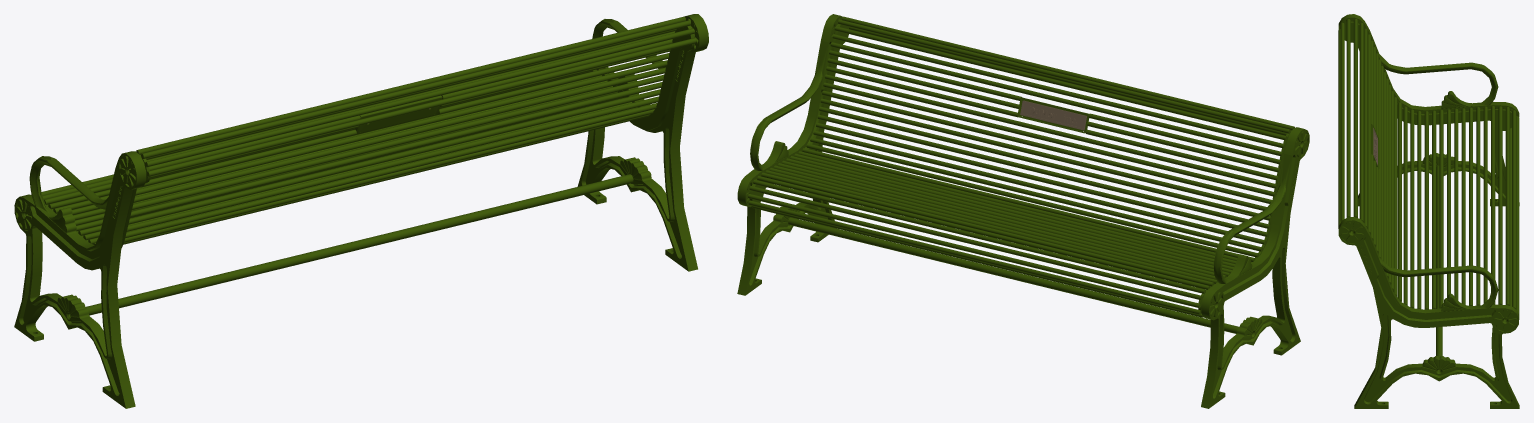
3 renders of one model, left to right at view 1: azimuth 30°, elevation 25°; view 2: azimuth 150°, elevation 25°; view 3: azimuth 270°, elevation 25°, orthographic. The views are drawn at different scales.
Parts seen in each view (by area): view 1: mesh1_mesh1-geometry, mesh110_mesh110-geometry, mesh219_mesh219-geometry, mesh239_mesh239-geometry, mesh240_mesh240-geometry, mesh238_mesh238-geometry, mesh264_mesh264-geometry, mesh226_mesh226-geometry, mesh262_mesh262-geometry, mesh263_mesh263-geometry, mesh227_mesh227-geometry, mesh265_mesh265-geometry (+20 smaller); view 2: mesh1_mesh1-geometry, mesh110_mesh110-geometry, mesh219_mesh219-geometry, mesh226_mesh226-geometry, mesh234_mesh234-geometry, mesh235_mesh235-geometry, mesh236_mesh236-geometry, mesh244_mesh244-geometry, mesh245_mesh245-geometry, mesh242_mesh242-geometry, mesh237_mesh237-geometry, mesh227_mesh227-geometry (+33 smaller); view 3: mesh110_mesh110-geometry, mesh1_mesh1-geometry, mesh238_mesh238-geometry, mesh246_mesh246-geometry, mesh237_mesh237-geometry, mesh239_mesh239-geometry, mesh244_mesh244-geometry, mesh245_mesh245-geometry, mesh236_mesh236-geometry, mesh222_mesh222-geometry, mesh258_mesh258-geometry, mesh255_mesh255-geometry (+32 smaller).
Part boxes in pixels (x1,y1,x2,y2): mesh1_mesh1-geometry: (14, 151, 146, 408); mesh110_mesh110-geometry: (577, 14, 708, 271); mesh219_mesh219-geometry: (85, 174, 633, 315); mesh239_mesh239-geometry: (145, 28, 694, 167); mesh240_mesh240-geometry: (146, 38, 696, 176); mesh238_mesh238-geometry: (141, 20, 690, 158); mesh264_mesh264-geometry: (130, 82, 662, 217); mesh226_mesh226-geometry: (135, 60, 667, 195); mesh262_mesh262-geometry: (126, 96, 658, 231); mesh263_mesh263-geometry: (128, 89, 660, 224); mesh227_mesh227-geometry: (133, 67, 665, 202); mesh265_mesh265-geometry: (132, 74, 663, 209); mesh1_mesh1-geometry: (1201, 127, 1309, 408); mesh110_mesh110-geometry: (737, 14, 842, 295); mesh219_mesh219-geometry: (788, 217, 1239, 333); mesh226_mesh226-geometry: (824, 74, 1277, 188); mesh234_mesh234-geometry: (830, 42, 1283, 156); mesh235_mesh235-geometry: (832, 34, 1285, 148); mesh236_mesh236-geometry: (834, 26, 1287, 140); mesh244_mesh244-geometry: (749, 186, 1202, 300); mesh245_mesh245-geometry: (753, 179, 1205, 293); mesh242_mesh242-geometry: (748, 200, 1201, 314); mesh237_mesh237-geometry: (838, 19, 1290, 133); mesh227_mesh227-geometry: (823, 82, 1275, 196); mesh110_mesh110-geometry: (1338, 217, 1519, 408); mesh1_mesh1-geometry: (1338, 14, 1519, 206); mesh238_mesh238-geometry: (1346, 19, 1350, 217); mesh246_mesh246-geometry: (1498, 106, 1502, 304); mesh237_mesh237-geometry: (1353, 19, 1357, 217); mesh239_mesh239-geometry: (1340, 22, 1344, 222); mesh244_mesh244-geometry: (1512, 110, 1516, 309); mesh245_mesh245-geometry: (1505, 107, 1509, 305); mesh236_mesh236-geometry: (1359, 22, 1363, 221); mesh222_mesh222-geometry: (1344, 21, 1511, 130); mesh258_mesh258-geometry: (1410, 109, 1414, 308); mesh255_mesh255-geometry: (1432, 110, 1436, 309).
Bounding box in the file's own units: 0.8704 × 0.3712 × 0.3235.
